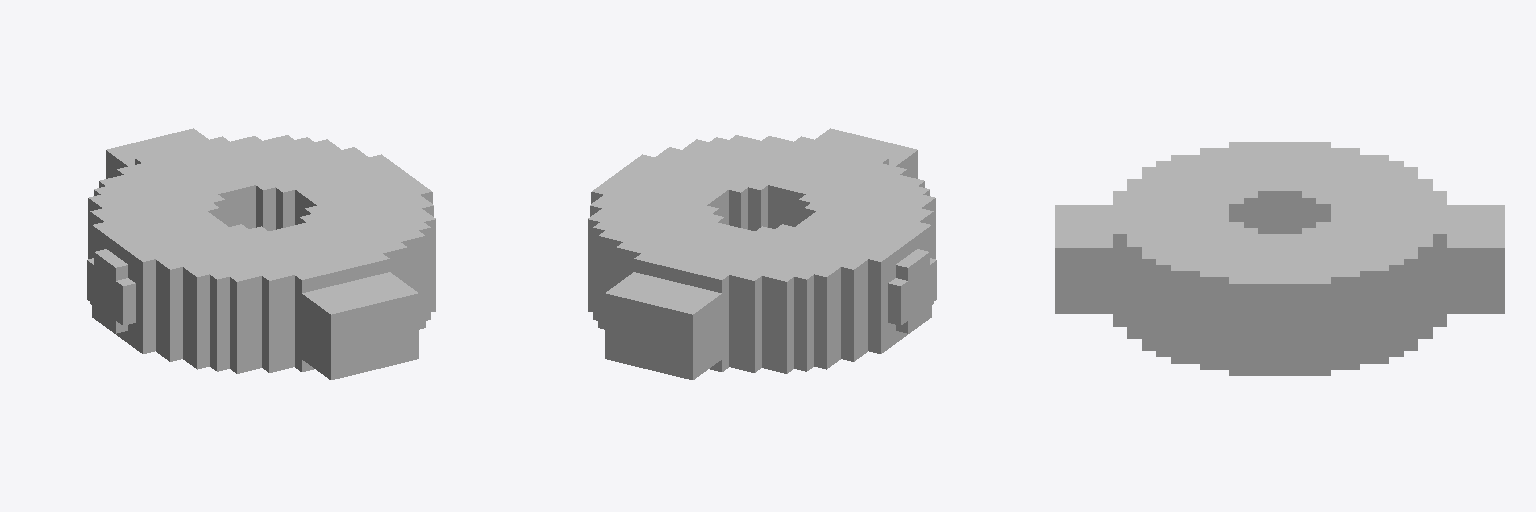
Rendered from Kart2.obj.
The picture shows the model from 3 angles: view 1: azimuth 30°, elevation 25°; view 2: azimuth 150°, elevation 25°; view 3: azimuth 270°, elevation 25°; orthographic projection.
Visible parts, largest first — view 1: object 1; view 2: object 1; view 3: object 1.
Part boxes in pixels (left/top/right/bottom): object 1: left=87, top=128, right=435, bottom=379; object 1: left=588, top=128, right=936, bottom=379; object 1: left=1055, top=142, right=1504, bottom=375.
Size of the model in its own units: 2.4 by 0.7 by 3.1.